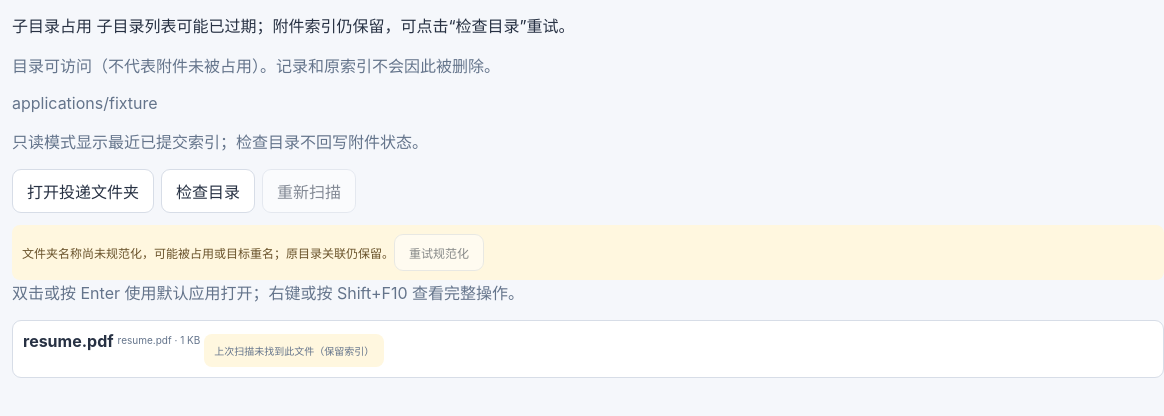
Test: file health feedback › shows empty folders in read-only mode and keeps file indexes when directory enumeration fails
Expected: the message "子目录占用 子目录列表可能已过期；附件索引仍保留，可点击“检查目录”重试。" is shown, [12,16,575,36]
Expected: the text "resume.pdf" is shown, [23,331,114,351]
Click the button "检查目录": (208, 191) [161,169,255,213]
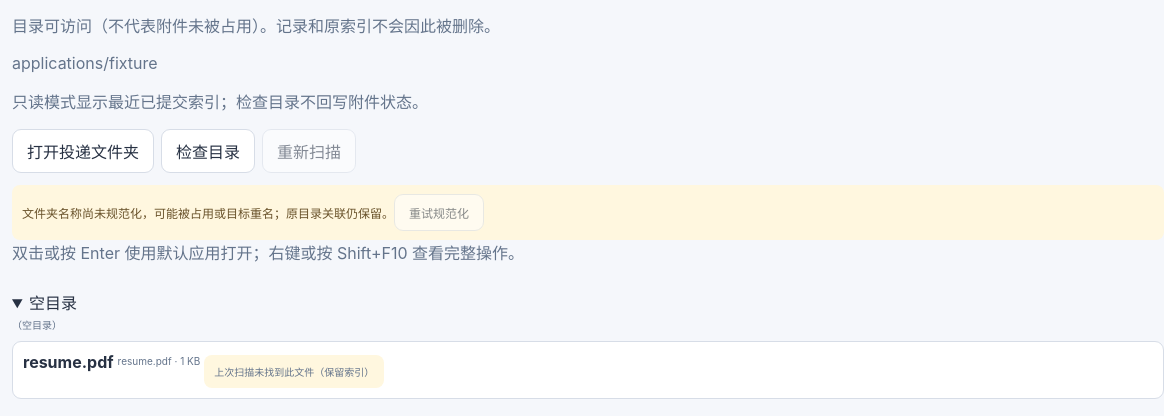
Expected: the button "重新扫描" is disabled, [262,129,356,173]
Expected: the text "（空目录）" is shown, [12,319,62,331]
